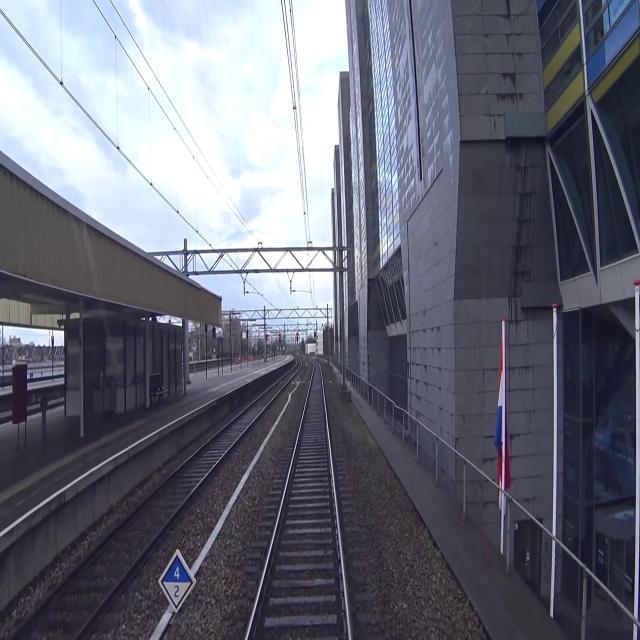rail-track: (14, 376, 289, 639), (249, 364, 346, 639)
